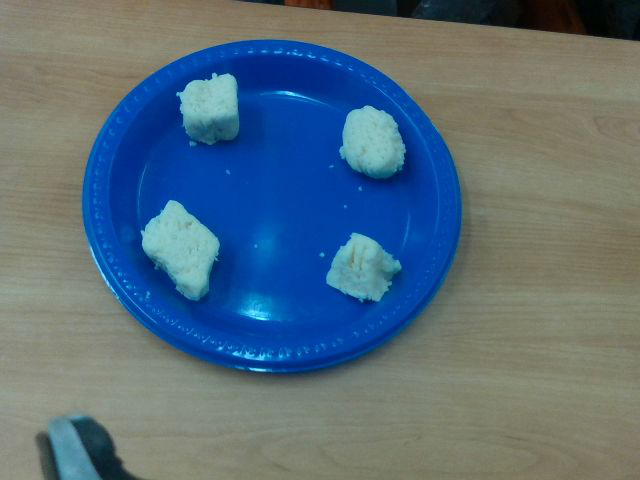mashed_potato: (140, 200, 220, 301), (327, 233, 402, 303), (341, 106, 405, 178), (178, 74, 240, 142)
